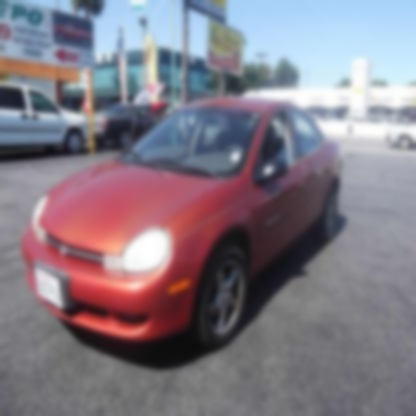Vehicle: (20, 98, 342, 353)
